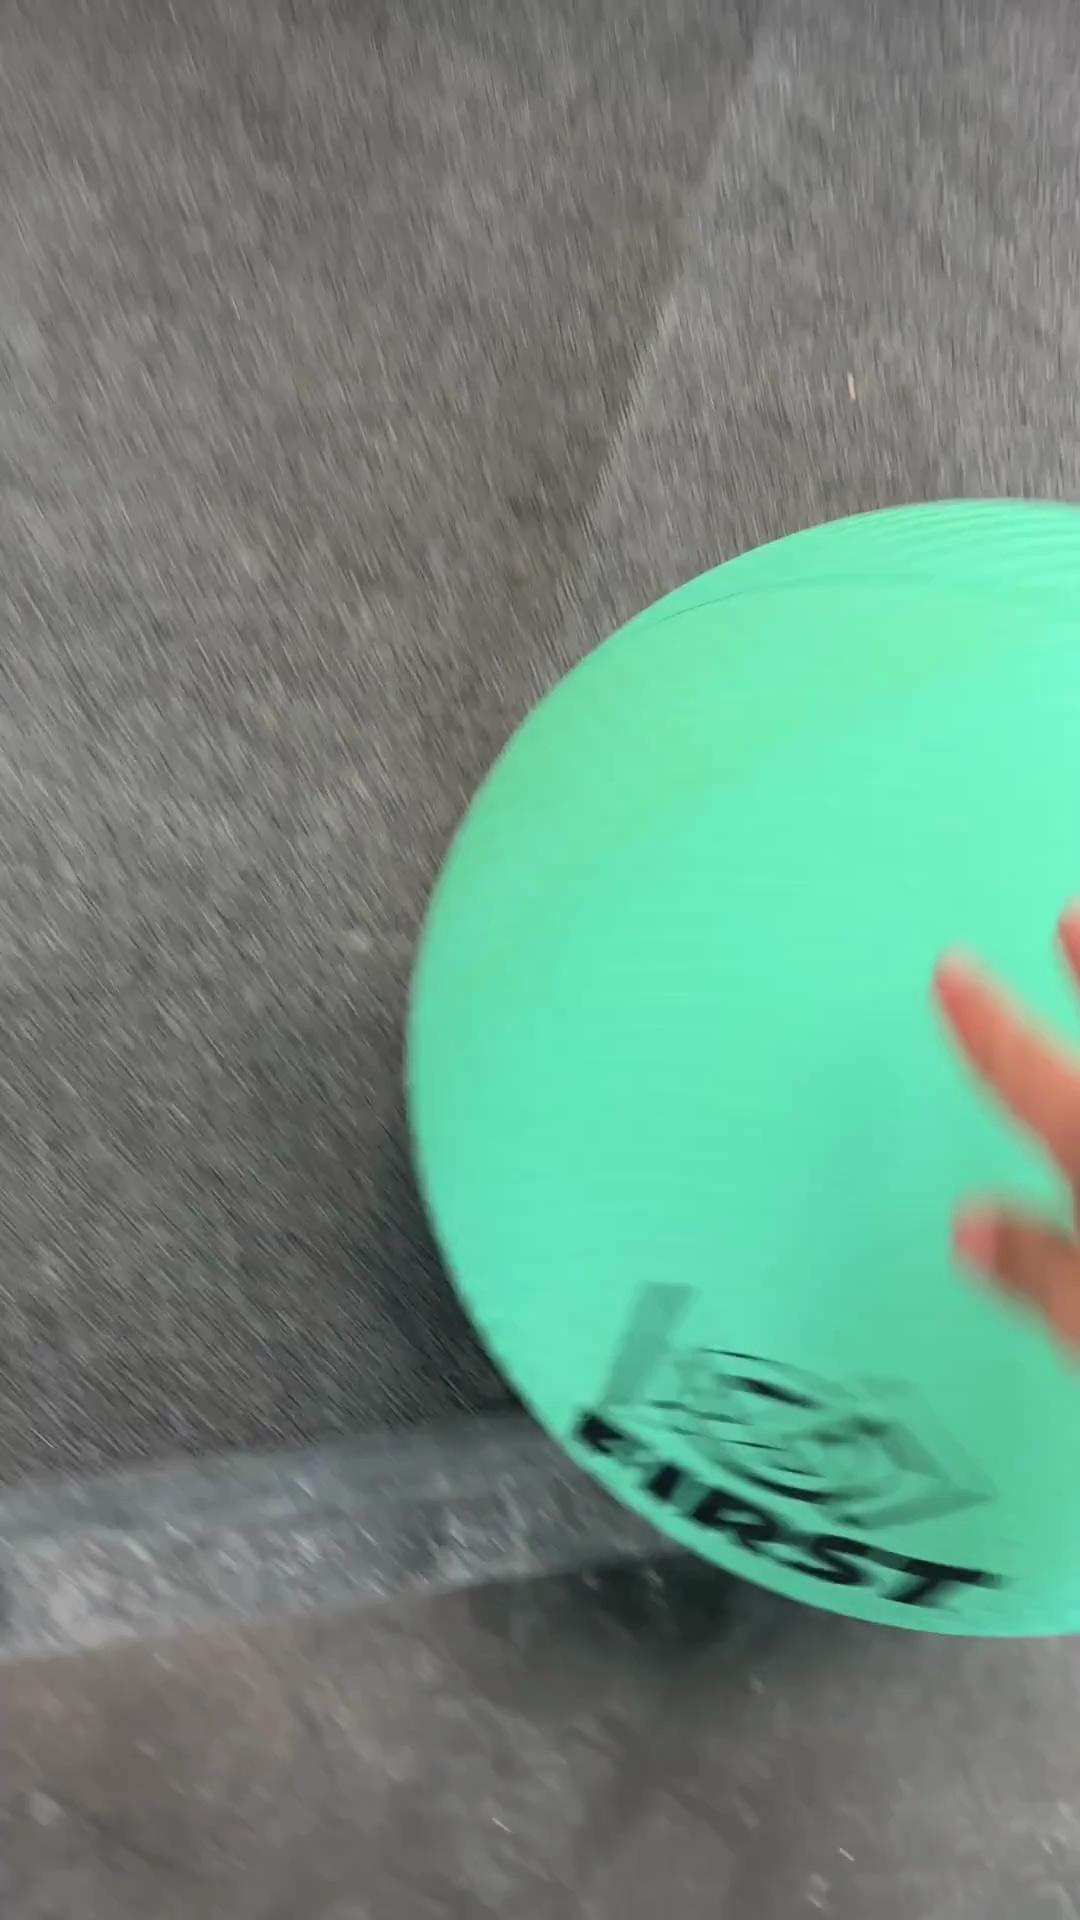ALGAE: (401, 493, 1077, 1639)
